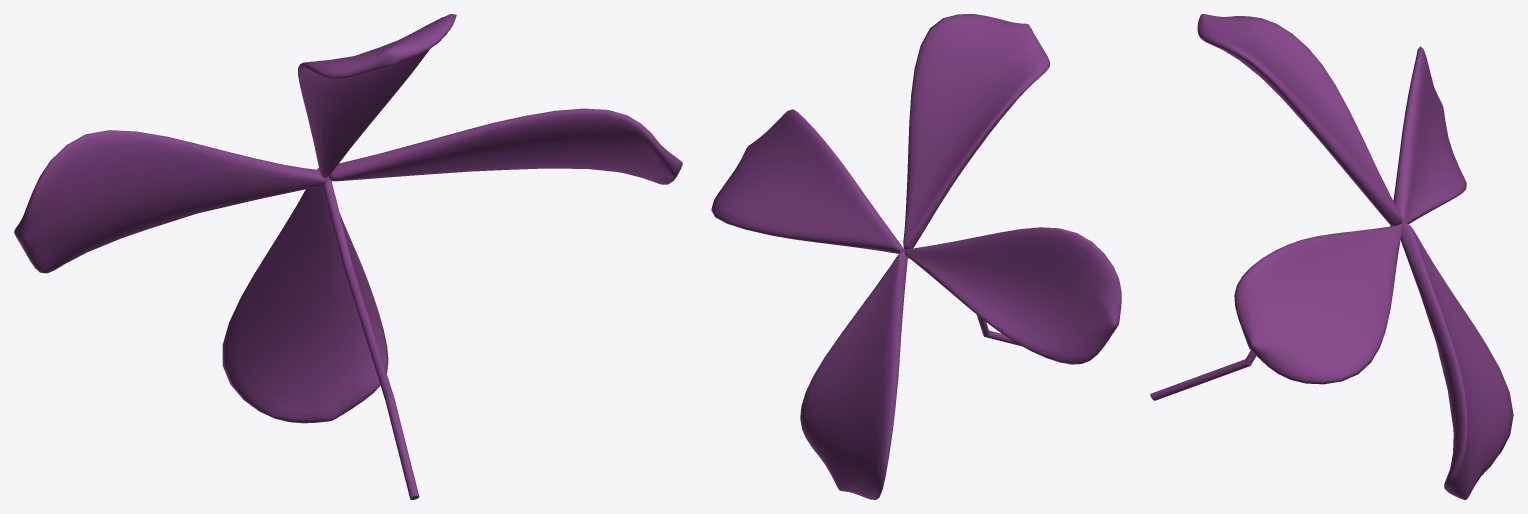
File: Flower.fbx
3 renders of one model, left to right at view 1: azimuth 30°, elevation 25°; view 2: azimuth 150°, elevation 25°; view 3: azimuth 270°, elevation 25°, orthographic. The views are drawn at different scales.
Visible parts, largest first — view 1: Flower; view 2: Flower; view 3: Flower.
Boxes of the visible parts, x1=… form: Flower: x1=14, y1=14, x2=682, y2=499; Flower: x1=711, y1=14, x2=1121, y2=499; Flower: x1=1150, y1=14, x2=1513, y2=499.
Size of the model in its own units: 65.42 by 54.99 by 40.21.
